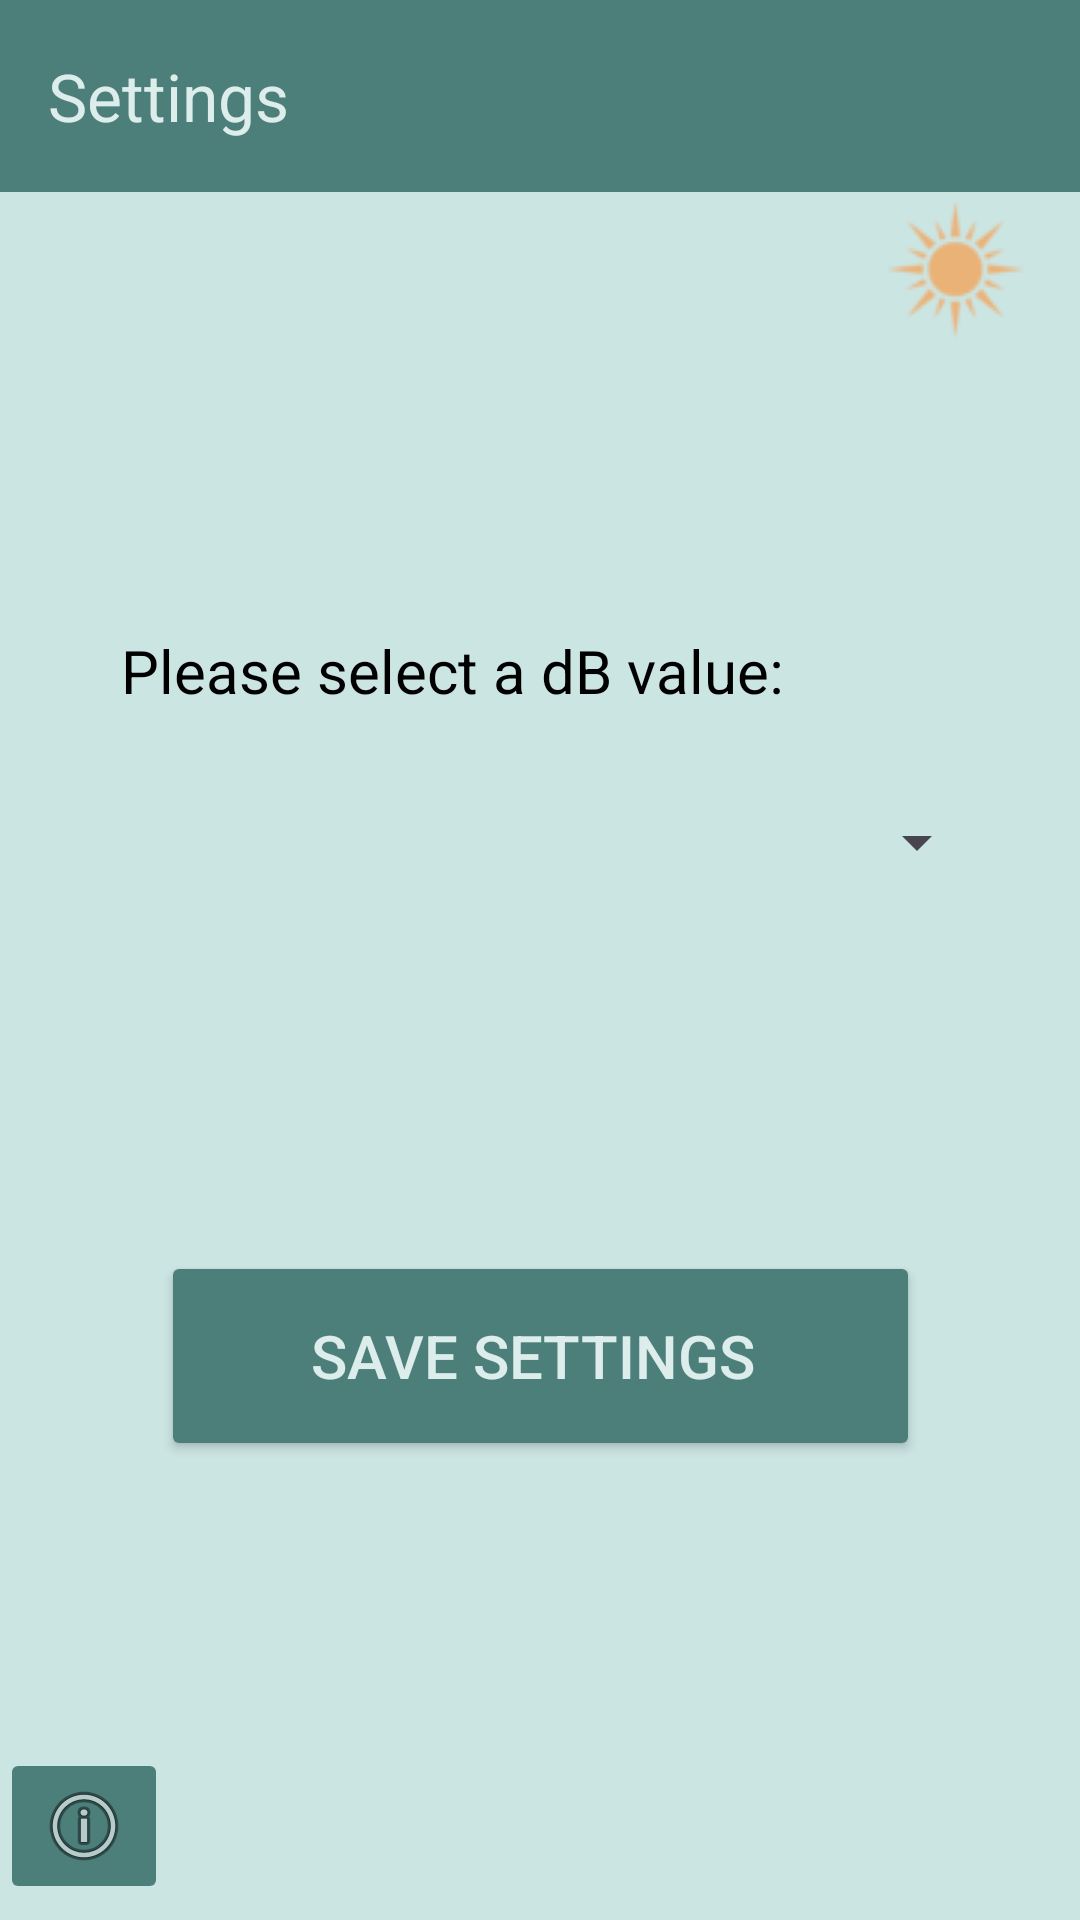

Where icons sit on this 1080*1920 app screen, as (x1, y1, x2, y2):
info details: (12, 1766, 156, 1886)
sun: (891, 204, 1020, 335)
